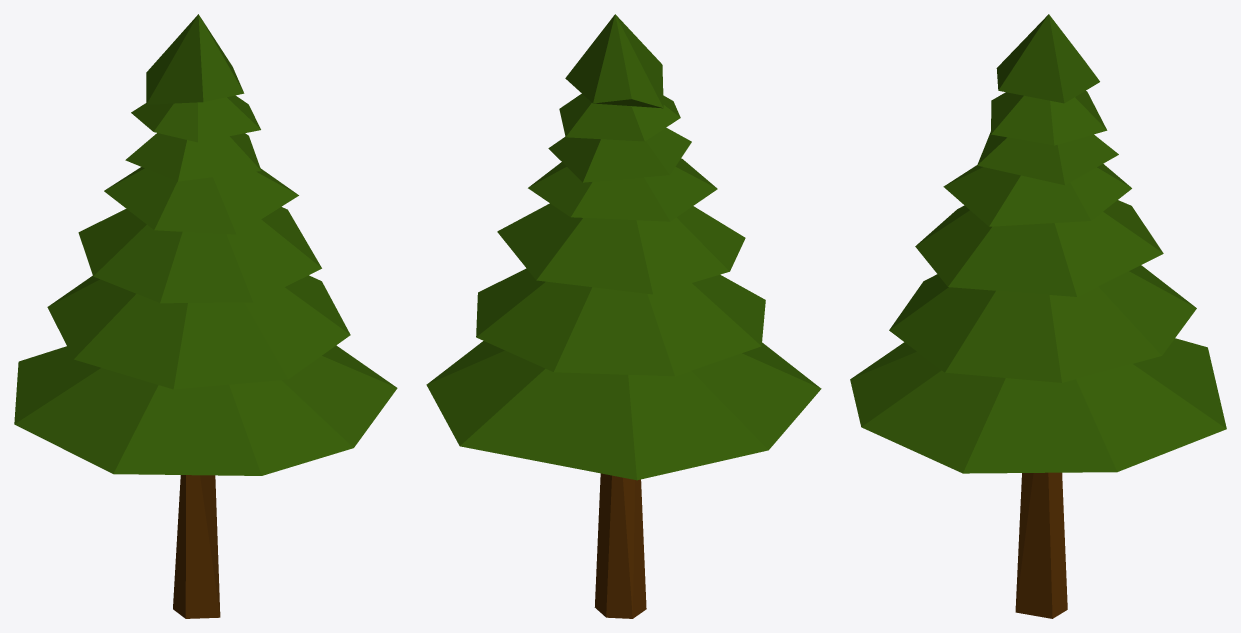
The model's file is tallTree.fbx.
The picture shows the model from 3 angles, left to right: view 1: azimuth 30°, elevation 25°; view 2: azimuth 150°, elevation 25°; view 3: azimuth 270°, elevation 25°; orthographic projection.
Parts seen in each view (by area): view 1: Cone, Cylinder; view 2: Cone, Cylinder; view 3: Cone, Cylinder.
Boxes of the visible parts, box(x1,y1,x2,y2) form: Cone: box(14, 14, 397, 475); Cylinder: box(173, 475, 220, 618); Cone: box(426, 14, 821, 480); Cylinder: box(594, 473, 646, 618); Cone: box(850, 14, 1226, 473); Cylinder: box(1015, 472, 1067, 618).
Size of the model in its own units: 337 by 587 by 337.
